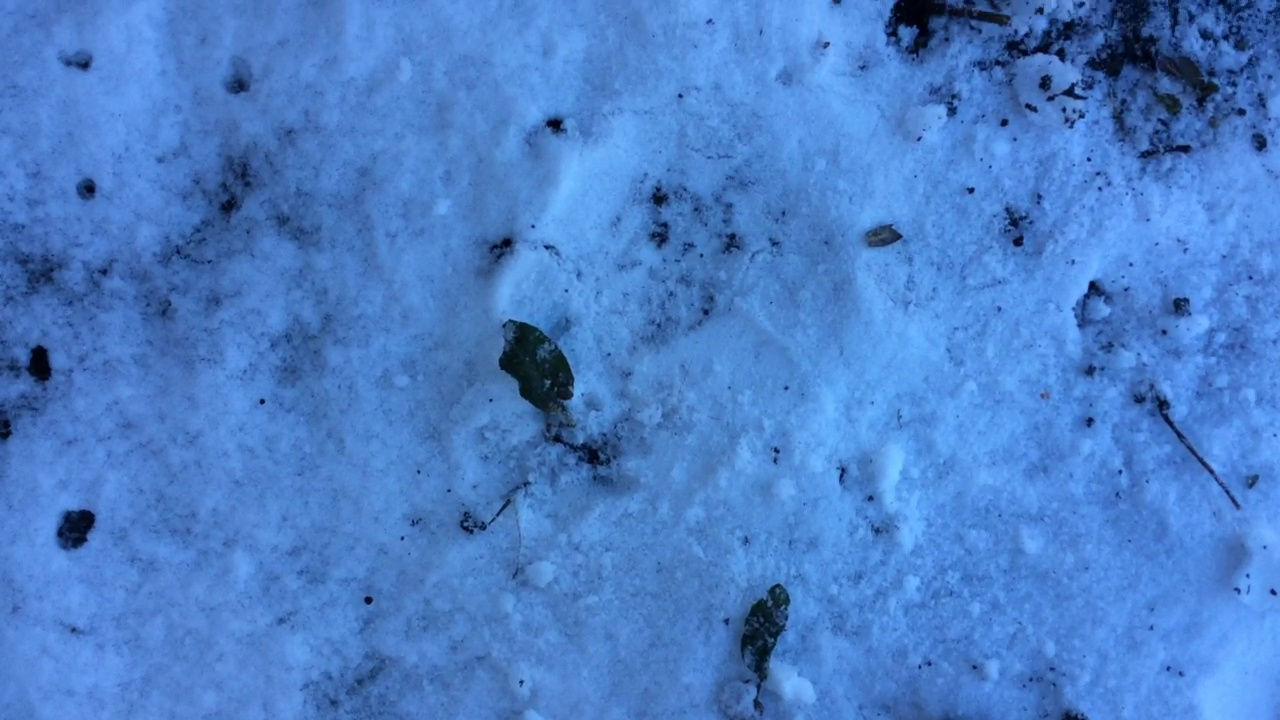root: (533, 417, 575, 454), (741, 692, 775, 720)
rumex: (493, 311, 591, 457), (735, 581, 797, 720)
